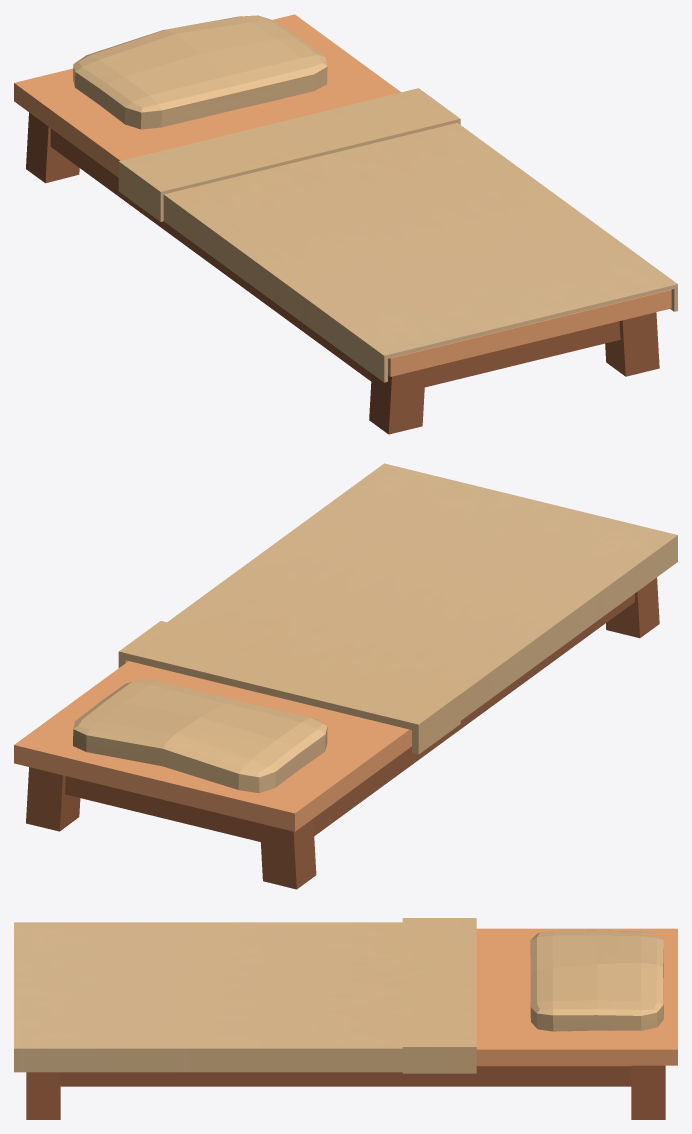
File: bed.obj
The picture shows the model from 3 angles, top to bottom: view 1: azimuth 30°, elevation 25°; view 2: azimuth 150°, elevation 25°; view 3: azimuth 270°, elevation 25°; orthographic projection. The views are drawn at different scales.
Visible parts, largest first — view 1: bed; view 2: bed; view 3: bed.
Part boxes in pixels (<box>): bed: <box>14,14,677,434</box>; bed: <box>14,463,677,889</box>; bed: <box>14,918,677,1119</box>.
Bounding box in the file's own units: 0.5722 × 0.2047 × 1.24.
